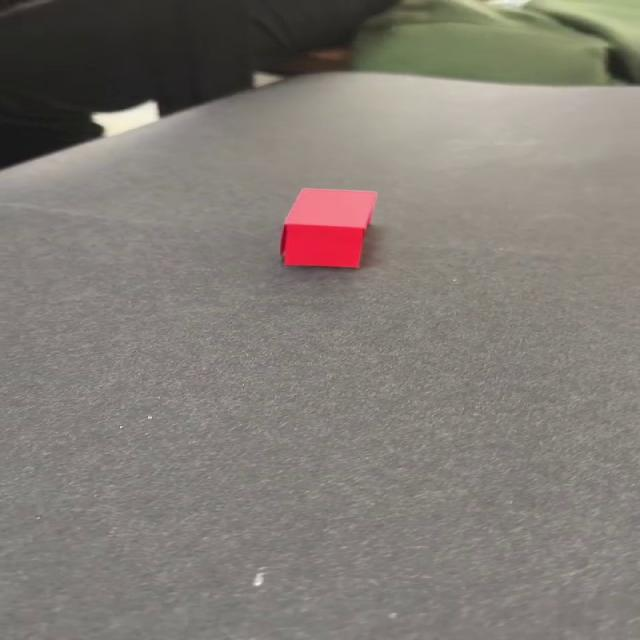red block: (279, 187, 377, 269)
